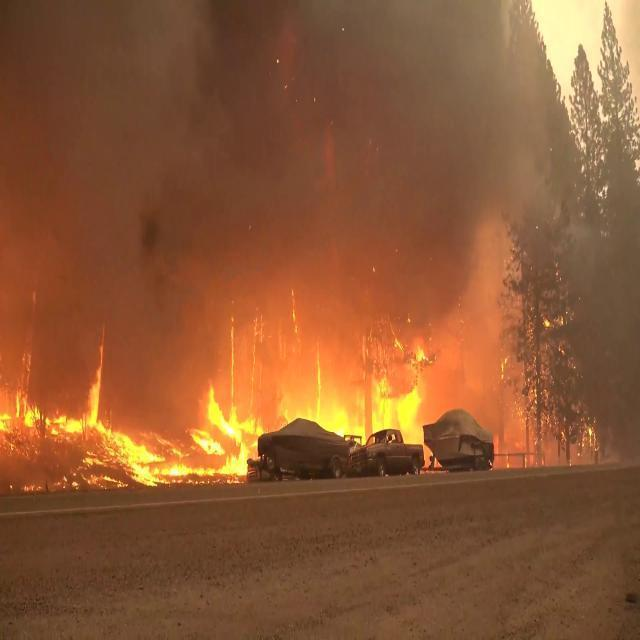Fire: (91, 413, 168, 482), (197, 380, 242, 475), (81, 332, 119, 423), (287, 381, 359, 427), (368, 380, 425, 432)
Smoke: (199, 0, 478, 282), (0, 0, 214, 286)
